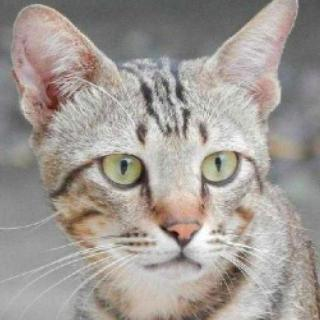cat: (8, 2, 283, 290)
nose: (152, 184, 209, 249)
